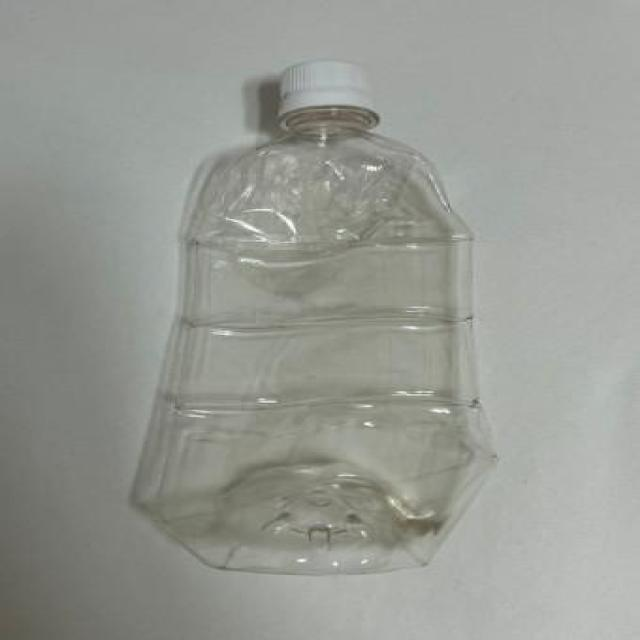bottle: (135, 62, 497, 577)
